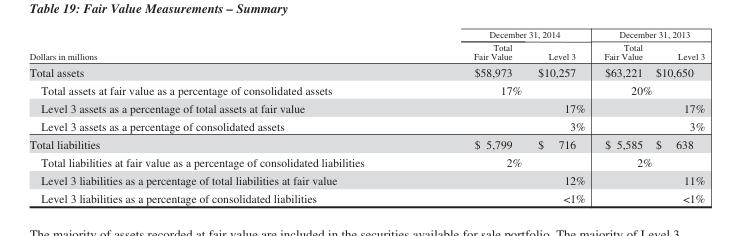table: (28, 28, 704, 204)
table column: (28, 28, 418, 204), (418, 28, 529, 204), (529, 28, 594, 204), (594, 28, 653, 204), (653, 28, 704, 204)
table column header: (28, 28, 704, 63)
table row: (28, 40, 704, 63), (28, 98, 704, 117), (28, 80, 704, 98), (28, 117, 704, 135), (28, 135, 704, 153), (28, 153, 704, 171), (28, 171, 704, 189), (28, 63, 704, 80), (28, 189, 704, 204), (28, 28, 704, 40)
table spanning cell: (28, 28, 418, 63), (418, 28, 594, 40), (594, 28, 704, 40)
